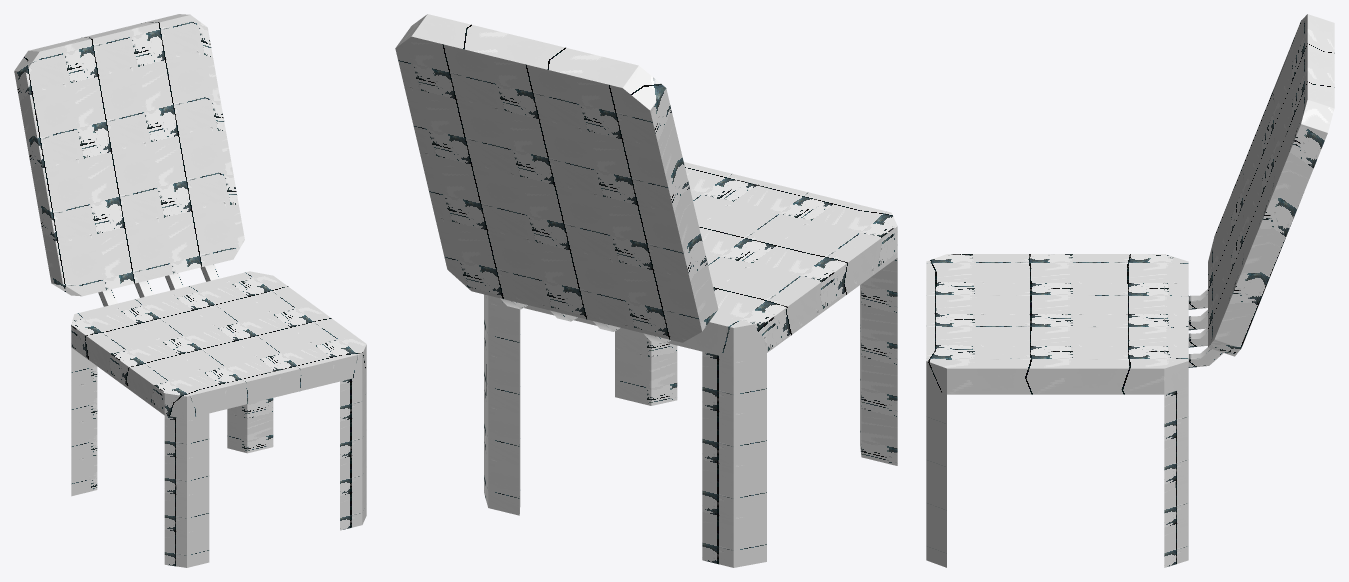
File: DeskChair.FBX
The picture shows the model from 3 angles, left to right: view 1: azimuth 30°, elevation 25°; view 2: azimuth 150°, elevation 25°; view 3: azimuth 270°, elevation 25°; orthographic projection. The views are drawn at different scales.
Visible parts, largest first — view 1: DeskChair; view 2: DeskChair; view 3: DeskChair.
Boxes of the visible parts, left/top/right/bottom form: DeskChair: left=14, top=14, right=366, bottom=567; DeskChair: left=395, top=14, right=897, bottom=567; DeskChair: left=926, top=14, right=1334, bottom=567.
Bounding box in the file's own units: 1.25 × 1.89 × 2.33.
1 material, 1 textured.
